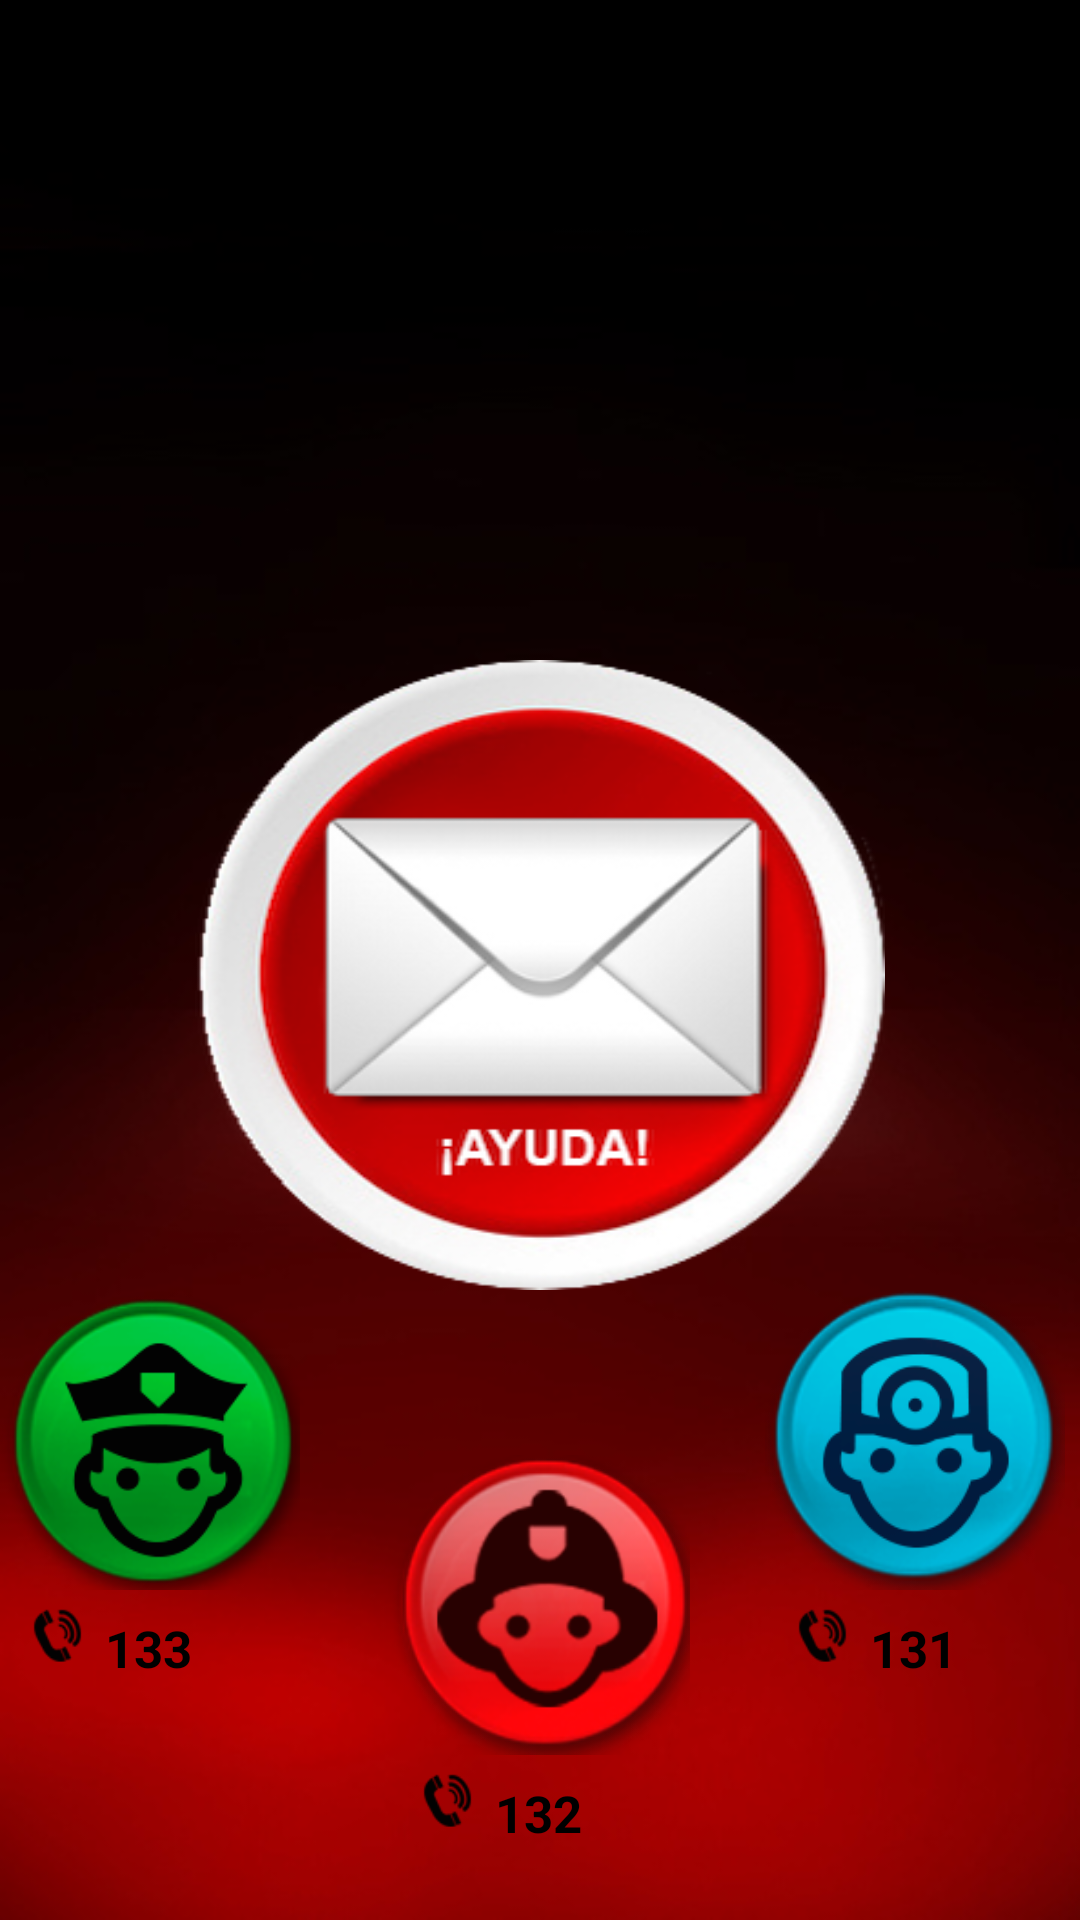

Locate icon controls on the screen. Image size 1080 × 1920, boxes as (x1, y1, x2, y2).
telefono: (34, 1609, 81, 1662), (799, 1609, 846, 1662), (424, 1774, 471, 1827)
